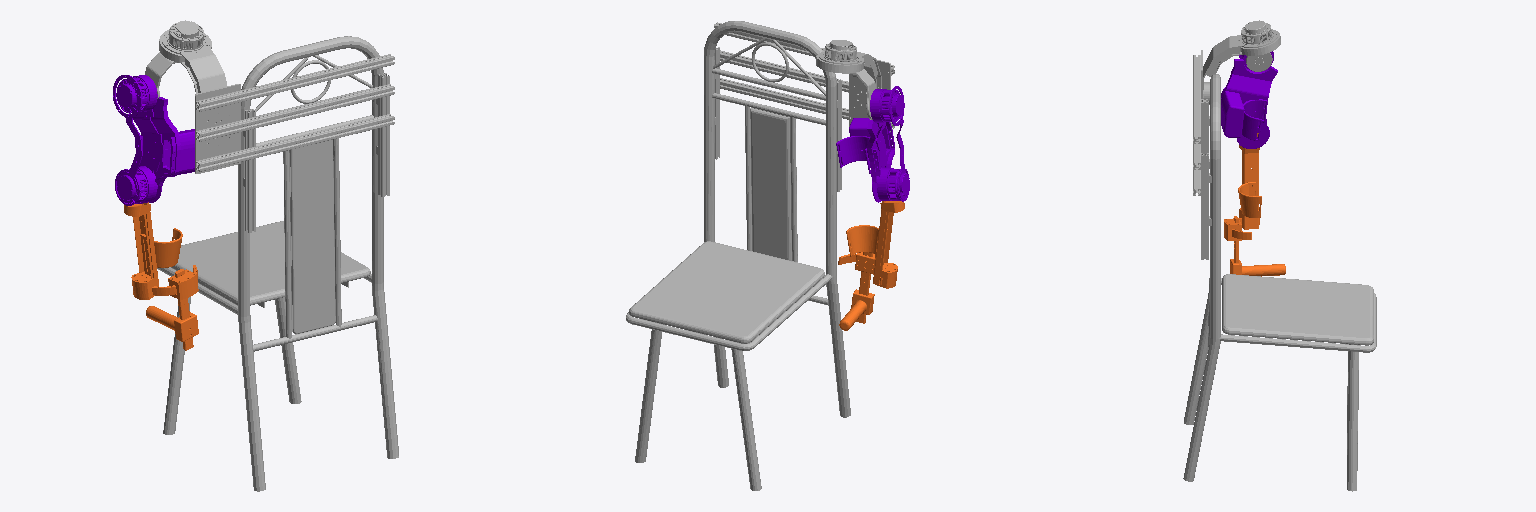
URDF robot description (0.Assem_tong.SLDASM):
<?xml version="1.0" encoding="utf-8"?>
<!-- This URDF was automatically created by SolidWorks to URDF Exporter! Originally created by Stephen Brawner (brawner@gmail.com) 
     Commit Version: 1.6.0-4-g7f85cfe  Build Version: 1.6.7995.38578
     For more information, please see http://wiki.ros.org/sw_urdf_exporter -->
<robot
  name="0.Assem_tong.SLDASM">
  <link
    name="base_link">
    <inertial>
      <origin
        xyz="0.269439843183932 0.28864640978465 0.510305429832032"
        rpy="0 0 0" />
      <mass
        value="6.78071383810196" />
      <inertia
        ixx="0.292982115231116"
        ixy="2.4289243215857E-05"
        ixz="1.48741255187707E-05"
        iyy="0.157616658426692"
        iyz="-0.0223532567301581"
        izz="0.315548948805223" />
    </inertial>
    <visual>
      <origin
        xyz="0 0 0"
        rpy="0 0 0" />
      <geometry>
        <mesh
          filename="meshes/base_link.STL" />
      </geometry>
      <material
        name="">
        <color
          rgba="0.752941176470588 0.752941176470588 0.752941176470588 1" />
      </material>
    </visual>
    <collision>
      <origin
        xyz="0 0 0"
        rpy="0 0 0" />
      <geometry>
        <mesh
          filename="meshes/base_link.STL" />
      </geometry>
    </collision>
  </link>
  <link
    name="shoulder_link">
    <inertial>
      <origin
        xyz="-0.12963 0.0049354 -0.047727"
        rpy="0 0 0" />
      <mass
        value="0.078544" />
      <inertia
        ixx="0.00012022"
        ixy="8.4806E-07"
        ixz="7.3469E-05"
        iyy="0.00018895"
        iyz="-7.8739E-07"
        izz="0.00010379" />
    </inertial>
    <visual>
      <origin
        xyz="0 0 0"
        rpy="0 0 0" />
      <geometry>
        <mesh
          filename="meshes/shoulder_link.STL" />
      </geometry>
      <material
        name="">
        <color
          rgba="0.75294 0.75294 0.75294 1" />
      </material>
    </visual>
    <collision>
      <origin
        xyz="0 0 0"
        rpy="0 0 0" />
      <geometry>
        <mesh
          filename="meshes/shoulder_link.STL" />
      </geometry>
    </collision>
  </link>
  <joint
    name="base_joint"
    type="continuous">
    <origin
      xyz="0.031381 -0.4859 0.64671"
      rpy="1.3324 1.3617 1.5011" />
    <parent
      link="base_link" />
    <child
      link="shoulder_link" />
    <axis
      xyz="0.99932 -0.031099 -0.019999" />
  </joint>
  <link
    name="upper_arm_link">
    <inertial>
      <origin
        xyz="-0.022717 0.105 -0.10081"
        rpy="0 0 0" />
      <mass
        value="1.2678" />
      <inertia
        ixx="0.0046939"
        ixy="-0.00010628"
        ixz="-0.00025724"
        iyy="0.0053714"
        iyz="-0.00041298"
        izz="0.0011133" />
    </inertial>
    <visual>
      <origin
        xyz="0 0 0"
        rpy="0 0 0" />
      <geometry>
        <mesh
          filename="meshes/upper_arm_link.STL" />
      </geometry>
      <material
        name="">
        <color
          rgba="0.5451 0 0.87059 1" />
      </material>
    </visual>
    <collision>
      <origin
        xyz="0 0 0"
        rpy="0 0 0" />
      <geometry>
        <mesh
          filename="meshes/upper_arm_link.STL" />
      </geometry>
    </collision>
  </link>
  <joint
    name="shoulder_joint"
    type="continuous">
    <origin
      xyz="-0.049966 0.001555 0.00099995"
      rpy="-1.376 0.014725 1.3742" />
    <parent
      link="shoulder_link" />
    <child
      link="upper_arm_link" />
    <axis
      xyz="0 1 0" />
  </joint>
  <link
    name="lower_arm_link">
    <inertial>
      <origin
        xyz="0.20796 0.011597 0.034173"
        rpy="0 0 0" />
      <mass
        value="0.73459" />
      <inertia
        ixx="0.00058901"
        ixy="2.0268E-05"
        ixz="0.000249"
        iyy="0.0015799"
        iyz="8.7918E-06"
        izz="0.0017158" />
    </inertial>
    <visual>
      <origin
        xyz="0 0 0"
        rpy="0 0 0" />
      <geometry>
        <mesh
          filename="meshes/lower_arm_link.STL" />
      </geometry>
      <material
        name="">
        <color
          rgba="1 0.5098 0.19608 1" />
      </material>
    </visual>
    <collision>
      <origin
        xyz="0 0 0"
        rpy="0 0 0" />
      <geometry>
        <mesh
          filename="meshes/lower_arm_link.STL" />
      </geometry>
    </collision>
  </link>
  <joint
    name="elbow_joint"
    type="continuous">
    <origin
      xyz="-0.016796 0 -0.2118"
      rpy="1.5708 1.542 3.1416" />
    <parent
      link="upper_arm_link" />
    <child
      link="lower_arm_link" />
    <axis
      xyz="0 0 1" />
  </joint>
</robot>

--- Render facts (derived) ---
3 views of the same robot in one strip: view 1: azimuth 30°, elevation 25°; view 2: azimuth 150°, elevation 25°; view 3: azimuth 270°, elevation 25° (orthographic).
Model 0.Assem_tong.SLDASM with 4 links and 3 joints (3 continuous), rooted at base_link, posed every joint at zero.
Links seen in each view (by area): view 1: base_link, upper_arm_link, lower_arm_link, shoulder_link; view 2: base_link, upper_arm_link, lower_arm_link; view 3: base_link, upper_arm_link, lower_arm_link.
Boxes of the visible links, left/top/right/bottom form: base_link: left=157, top=20, right=398, bottom=491; upper_arm_link: left=113, top=75, right=194, bottom=205; lower_arm_link: left=124, top=202, right=198, bottom=350; shoulder_link: left=145, top=52, right=176, bottom=98; base_link: left=626, top=21, right=894, bottom=490; upper_arm_link: left=836, top=86, right=909, bottom=202; lower_arm_link: left=838, top=201, right=904, bottom=330; base_link: left=1183, top=20, right=1376, bottom=491; upper_arm_link: left=1221, top=51, right=1277, bottom=148; lower_arm_link: left=1224, top=133, right=1285, bottom=276.
Bounding box of the posed robot: 0.6348 × 0.5067 × 1.15 m (x, y, z).
Meshes: 4 distinct files referenced, 4 mesh visuals loaded (4 binary STL).
